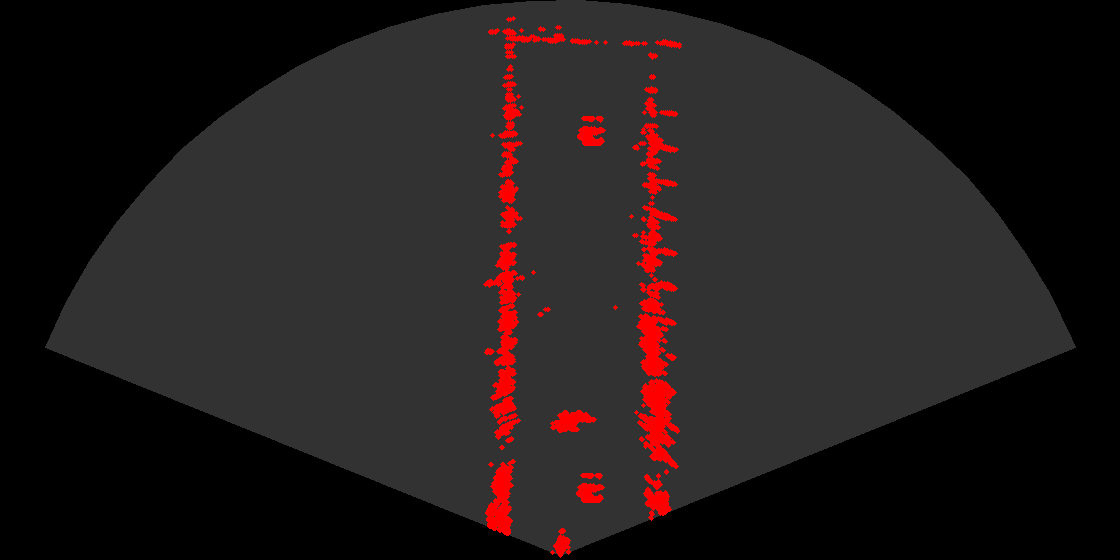AUV: (544, 408, 600, 440)
ball: (557, 108, 617, 149), (556, 465, 616, 506)
